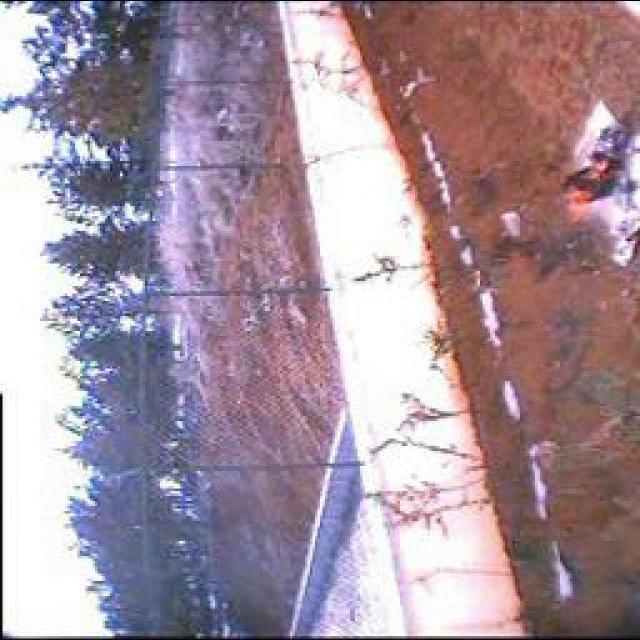Fire: (558, 130, 624, 222)
